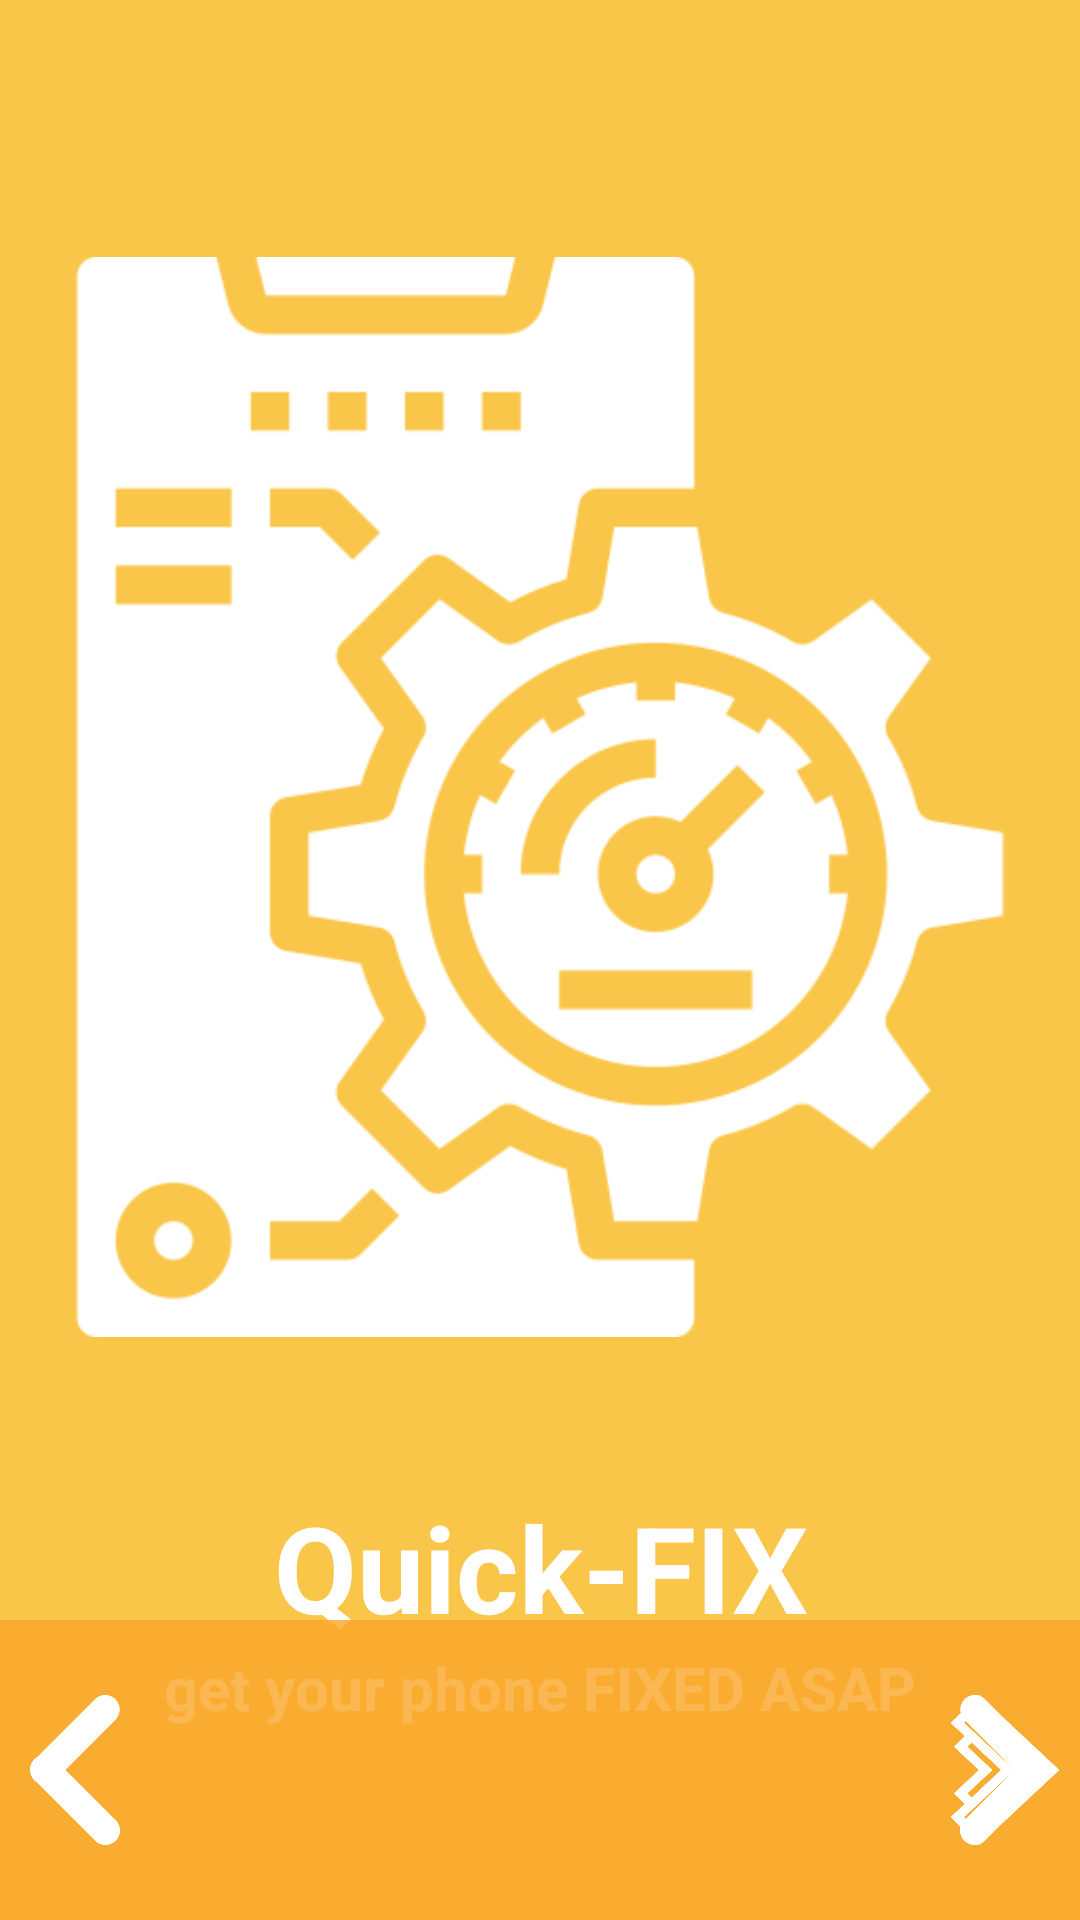

Icons on this 1080x1920 Android screen, each with its box as (x1, y1, x2, y2):
previous: (30, 1695, 120, 1845)
